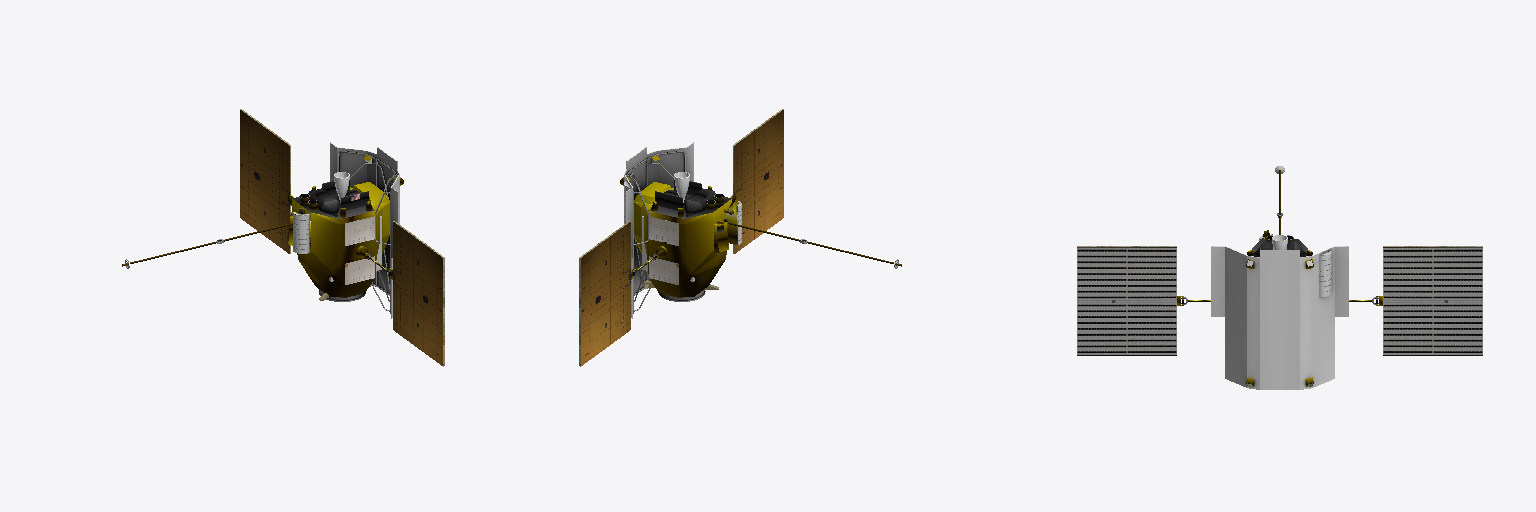
3 views of the same model, side by side, from view 1: azimuth 30°, elevation 25°; view 2: azimuth 150°, elevation 25°; view 3: azimuth 270°, elevation 25° (orthographic).
Parts seen in each view (by area): view 1: obj7, obj5, obj2, obj6, obj3, obj8; view 2: obj7, obj5, obj2, obj6, obj8; view 3: obj7, obj2, obj3, obj5.
Part boxes in pixels (bbox=[...]): obj7: bbox=[240, 109, 444, 366]; obj5: bbox=[122, 155, 403, 297]; obj2: bbox=[330, 142, 399, 318]; obj6: bbox=[293, 180, 374, 218]; obj3: bbox=[125, 212, 309, 268]; obj8: bbox=[301, 151, 397, 313]; obj7: bbox=[579, 109, 783, 366]; obj5: bbox=[620, 155, 901, 297]; obj2: bbox=[624, 142, 693, 318]; obj6: bbox=[649, 180, 730, 232]; obj8: bbox=[626, 151, 733, 313]; obj7: bbox=[1077, 246, 1482, 355]; obj2: bbox=[1211, 246, 1348, 389]; obj3: bbox=[1259, 166, 1331, 296]; obj5: bbox=[1177, 170, 1382, 386].
Size of the model in its own units: 5.28 by 2.64 by 6.96.
11 materials, 8 textured.